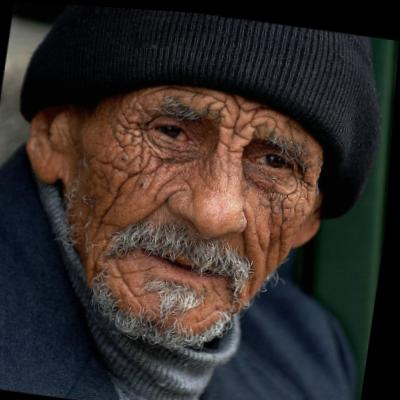netural: (75, 64, 333, 352)
